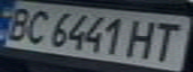1: (100, 14, 130, 56)
4: (84, 12, 109, 54), (63, 11, 87, 52)
6: (45, 9, 75, 50)
B: (0, 4, 36, 42)
C: (18, 7, 54, 45)
H: (121, 17, 166, 61)
T: (145, 19, 190, 63)
